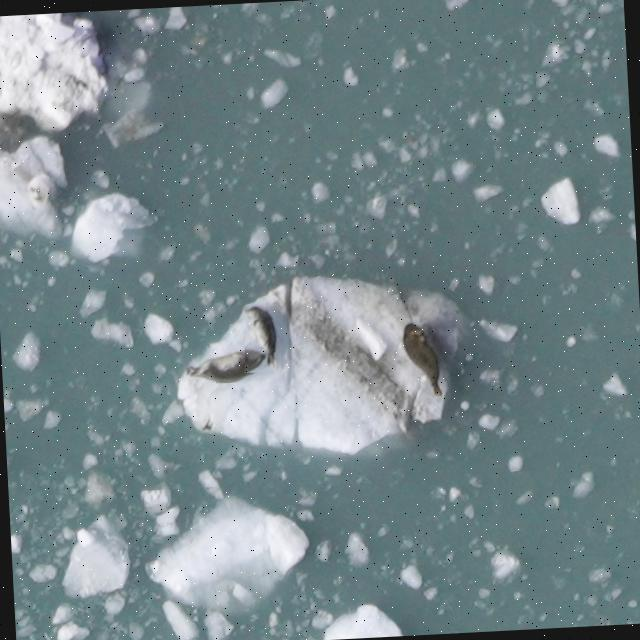seal: (399, 318, 446, 403), (180, 347, 275, 385), (243, 302, 282, 373)
